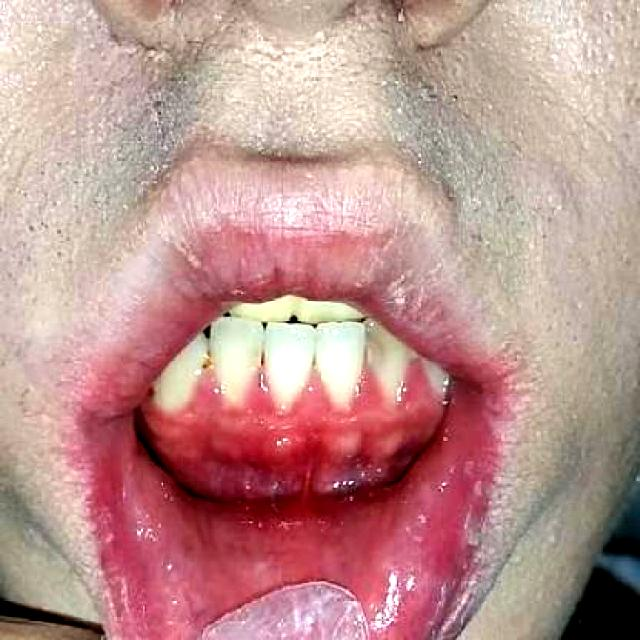Plaque: (144, 384, 159, 409)
